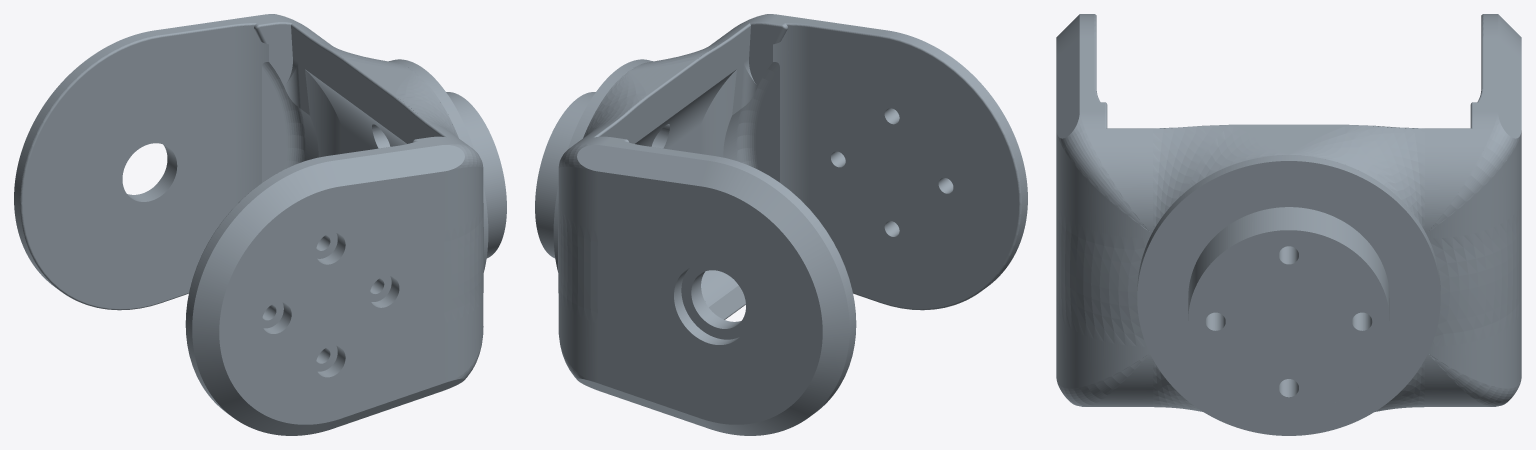
The model's file is FLO-ARM-04 MID ARM CONNECTOR - FLO-ARM-LEFT-04 MID ARM CONNECTOR.dae.
The picture shows the model from 3 angles, left to right: view 1: azimuth 30°, elevation 25°; view 2: azimuth 150°, elevation 25°; view 3: azimuth 270°, elevation 25°; orthographic projection. The views are drawn at different scales.
Parts seen in each view (by area): view 1: 5c818acf9f8e2b164b0c6a56; view 2: 5c818acf9f8e2b164b0c6a56; view 3: 5c818acf9f8e2b164b0c6a56.
Part boxes in pixels (<box>): 5c818acf9f8e2b164b0c6a56: <box>14,14,506,435</box>; 5c818acf9f8e2b164b0c6a56: <box>535,14,1027,435</box>; 5c818acf9f8e2b164b0c6a56: <box>1056,14,1521,435</box>.
Bounding box in the file's own units: 0.0535 × 0.0508 × 0.0381.
